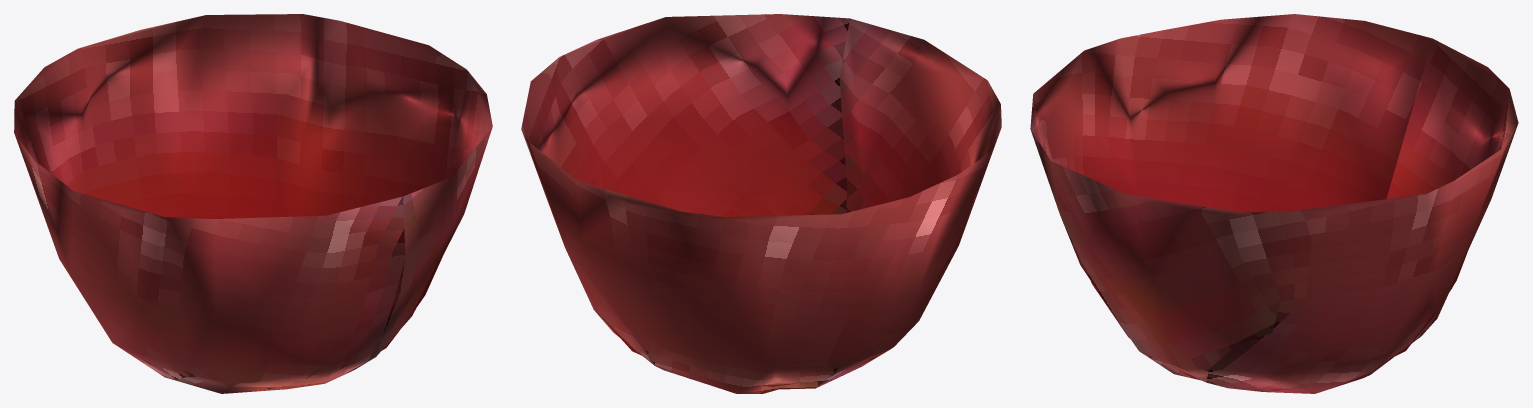
File: Bradshaw_International_11642_7_Qt_MP_Plastic_Bowl-low.glb
3 renders of one model, left to right at view 1: azimuth 30°, elevation 25°; view 2: azimuth 150°, elevation 25°; view 3: azimuth 270°, elevation 25°, orthographic.
Visible parts, largest first — view 1: Bradshaw_International_11642_7_Qt_MP_Plastic_Bowl; view 2: Bradshaw_International_11642_7_Qt_MP_Plastic_Bowl; view 3: Bradshaw_International_11642_7_Qt_MP_Plastic_Bowl.
Boxes of the visible parts, x1,y1,x2,y2 form: Bradshaw_International_11642_7_Qt_MP_Plastic_Bowl: (14,14,492,393); Bradshaw_International_11642_7_Qt_MP_Plastic_Bowl: (521,14,1001,393); Bradshaw_International_11642_7_Qt_MP_Plastic_Bowl: (1030,14,1518,393).
Bounding box in the file's own units: 0.2808 × 0.1528 × 0.2829.
Materials: 1 (1 with a texture image).
